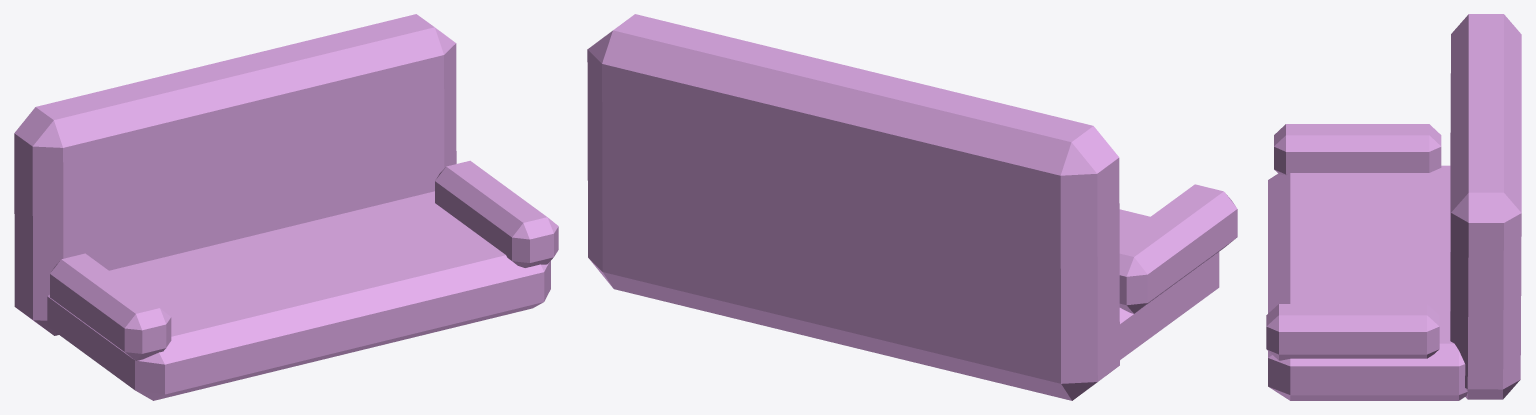
The model's file is ソファー.fbx.
3 views of the same model, side by side, from view 1: azimuth 30°, elevation 25°; view 2: azimuth 150°, elevation 25°; view 3: azimuth 270°, elevation 25° (orthographic). The views are drawn at different scales.
Visible parts, largest first — view 1: pCube200; view 2: pCube200; view 3: pCube200.
Boxes of the visible parts, x1,y1,x2,y2 form: pCube200: (14, 14, 558, 400); pCube200: (587, 14, 1237, 400); pCube200: (1266, 14, 1521, 400).
Size of the model in its own units: 102 by 48.85 by 54.55.
